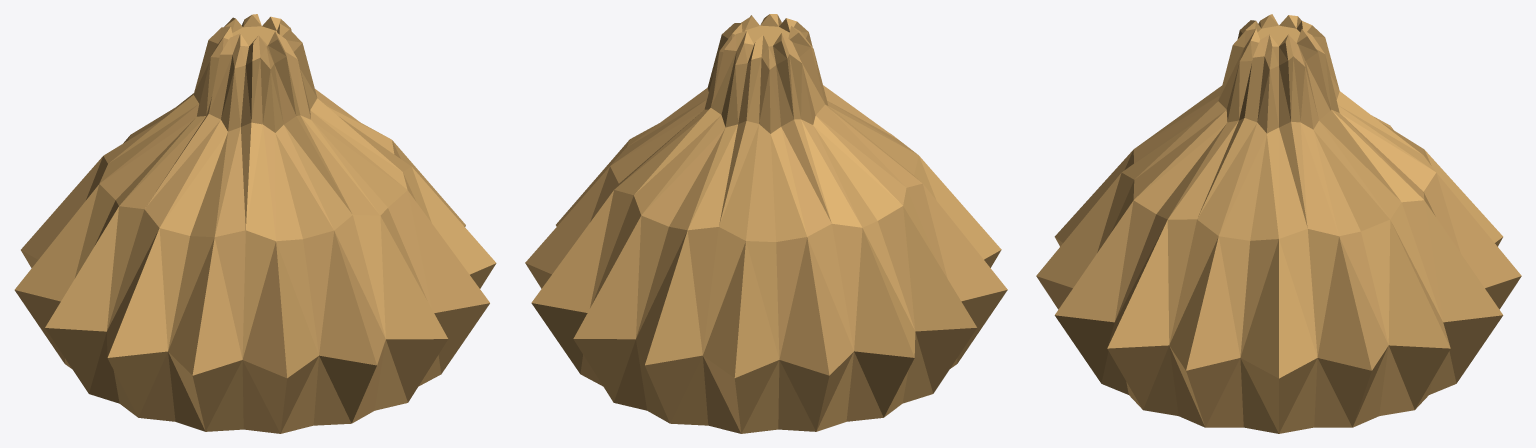
The model's file is ED_05_Pinched_Khinkali.fbx.
3 renders of one model, left to right at view 1: azimuth 30°, elevation 25°; view 2: azimuth 150°, elevation 25°; view 3: azimuth 270°, elevation 25°, orthographic.
Visible parts, largest first — view 1: ED_05_Pinched_Khinkali; view 2: ED_05_Pinched_Khinkali; view 3: ED_05_Pinched_Khinkali.
Boxes of the visible parts, bbox=[...] form: ED_05_Pinched_Khinkali: bbox=[14, 14, 496, 433]; ED_05_Pinched_Khinkali: bbox=[525, 14, 1007, 433]; ED_05_Pinched_Khinkali: bbox=[1036, 14, 1521, 433].
Size of the model in its own units: 0.8603 by 0.7111 by 0.8603.
1 material, 1 textured.
